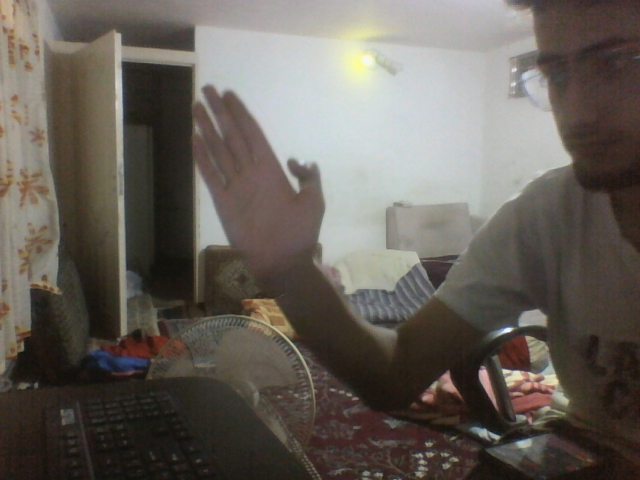taslim: (188, 81, 324, 284)
